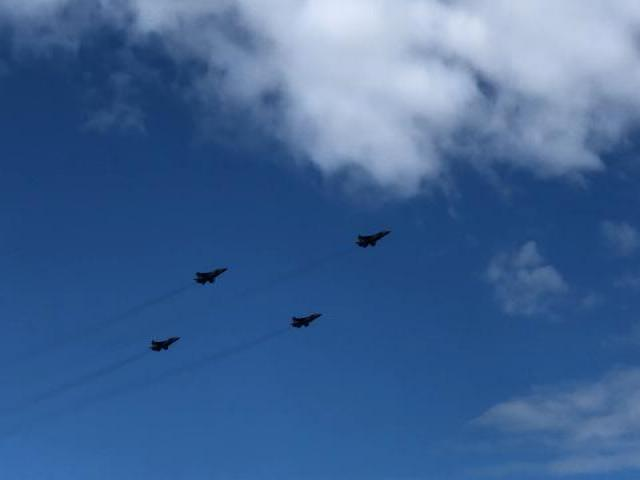flying wing: (357, 225, 394, 260), (193, 260, 230, 292), (291, 307, 317, 335), (152, 329, 179, 355)
